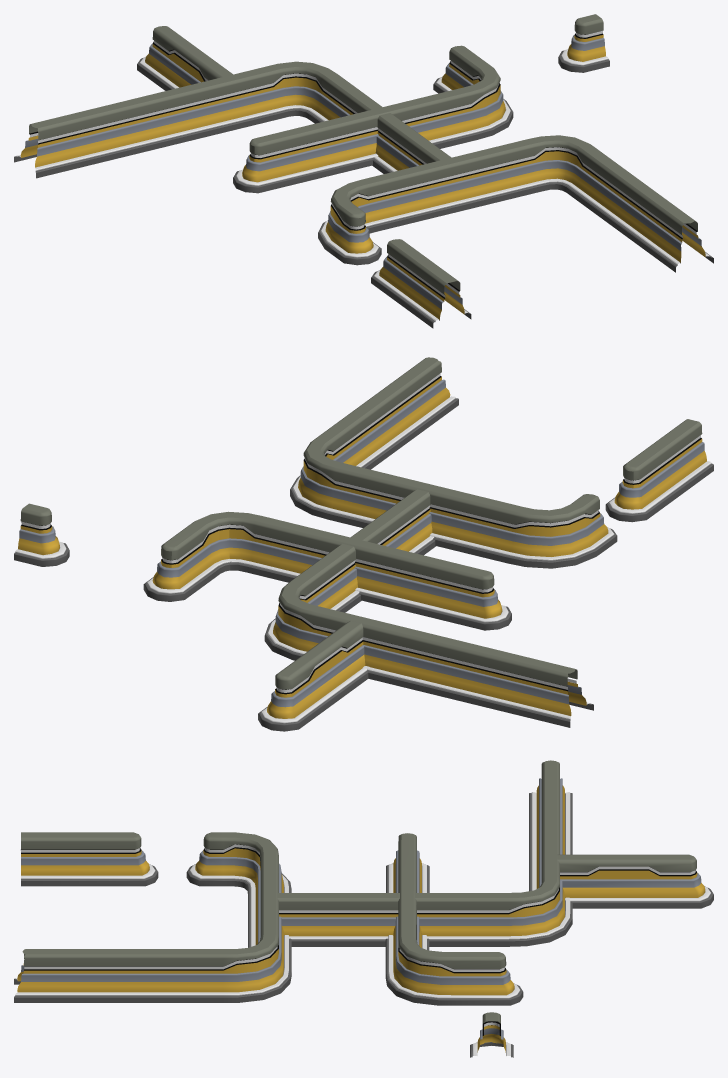
The model's file is Level27_Small_walls.fbx.
3 views of the same model, one above another, from view 1: azimuth 30°, elevation 25°; view 2: azimuth 150°, elevation 25°; view 3: azimuth 270°, elevation 25° (orthographic). The views are drawn at different scales.
Parts seen in each view (by area): view 1: Small_wall_L33, Small_wall_L24, Small_wall_L35, Small_wall_L34, Small_wallv1_11, Small_wall_L32; view 2: Small_wall_L33, Small_wall_L24, Small_wall_L35, Small_wallv1_11, Small_wall_L34, Small_wall_L32; view 3: Small_wall_L33, Small_wall_L24, Small_wall_L35, Small_wallv1_11, Small_wall_L34, Small_wall_L32.
Boxes of the visible parts, x1,y1,x2,y2 form: Small_wall_L33: [318, 135, 713, 272]; Small_wall_L24: [14, 61, 451, 178]; Small_wall_L35: [233, 45, 513, 193]; Small_wall_L34: [371, 239, 471, 328]; Small_wallv1_11: [137, 26, 232, 90]; Small_wall_L32: [558, 14, 609, 72]; Small_wall_L33: [290, 357, 617, 568]; Small_wall_L24: [264, 489, 593, 727]; Small_wall_L35: [143, 511, 511, 630]; Small_wallv1_11: [258, 621, 368, 731]; Small_wall_L34: [605, 419, 713, 522]; Small_wall_L32: [14, 503, 69, 566]; Small_wall_L33: [14, 832, 291, 1002]; Small_wall_L24: [277, 760, 572, 946]; Small_wall_L35: [385, 833, 523, 1005]; Small_wallv1_11: [557, 854, 713, 908]; Small_wall_L34: [20, 832, 158, 886]; Small_wall_L32: [470, 1012, 513, 1057].
Size of the model in its own units: 495 by 37.91 by 552.
